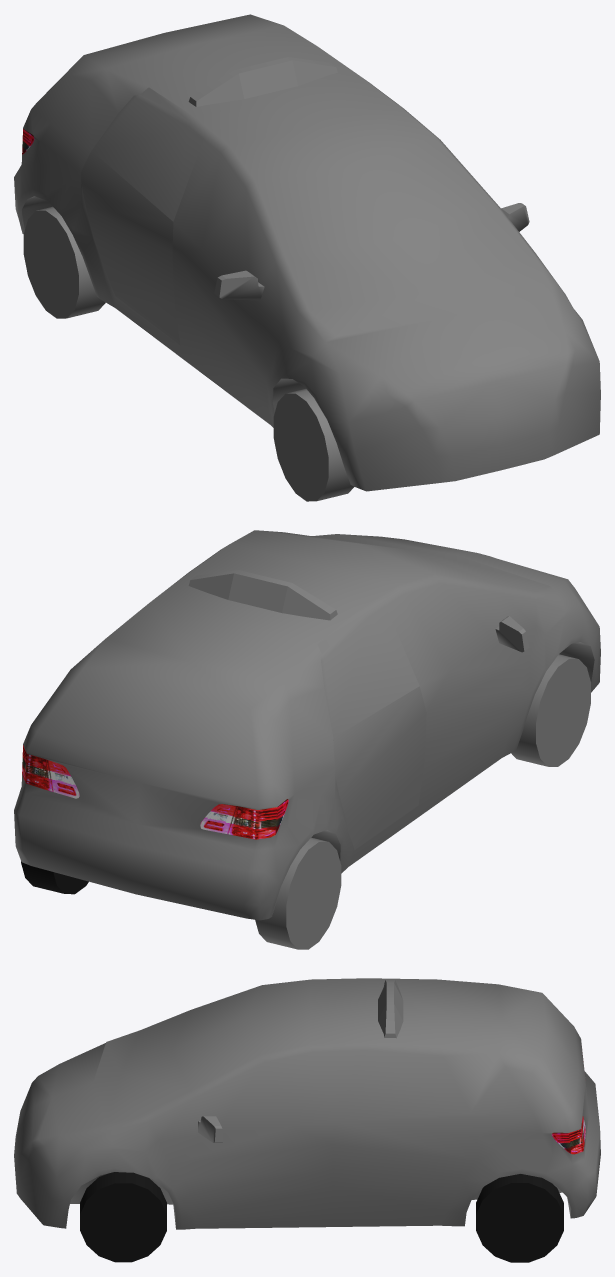
Rendered from MercTaxi.FBX.
3 renders of one model, top to bottom at view 1: azimuth 30°, elevation 25°; view 2: azimuth 150°, elevation 25°; view 3: azimuth 270°, elevation 25°, orthographic. The views are drawn at different scales.
Parts seen in each view (by area): view 1: MercTaxi, door002, tyre_front_Right, tyre_Back_Right, Object002; view 2: MercTaxi, door002, tyre_Back_Right, tyre_front_Right, Object002, back_light_right004, back_light_left, tyre_back_left; view 3: MercTaxi, tyre_front_left, tyre_back_left, Object002, back_light_left.
Boxes of the visible parts, x1,y1,x2,y2 form: MercTaxi: (14,14,600,491); door002: (81,94,206,344); tyre_front_Right: (273,389,354,501); tyre_Back_Right: (23,206,105,318); Object002: (188,57,337,106); MercTaxi: (14,530,600,920); door002: (321,602,426,850); tyre_Back_Right: (255,837,341,949); tyre_front_Right: (511,654,590,766); Object002: (188,570,337,620); back_light_right004: (200,799,288,839); back_light_left: (22,745,79,798); tyre_back_left: (21,861,88,894); MercTaxi: (14,978,600,1229); tyre_front_left: (80,1172,166,1262); tyre_back_left: (476,1174,563,1262); Object002: (378,979,403,1038); back_light_left: (551,1116,585,1154).
Size of the model in its own units: 2234 by 1903 by 4637.
